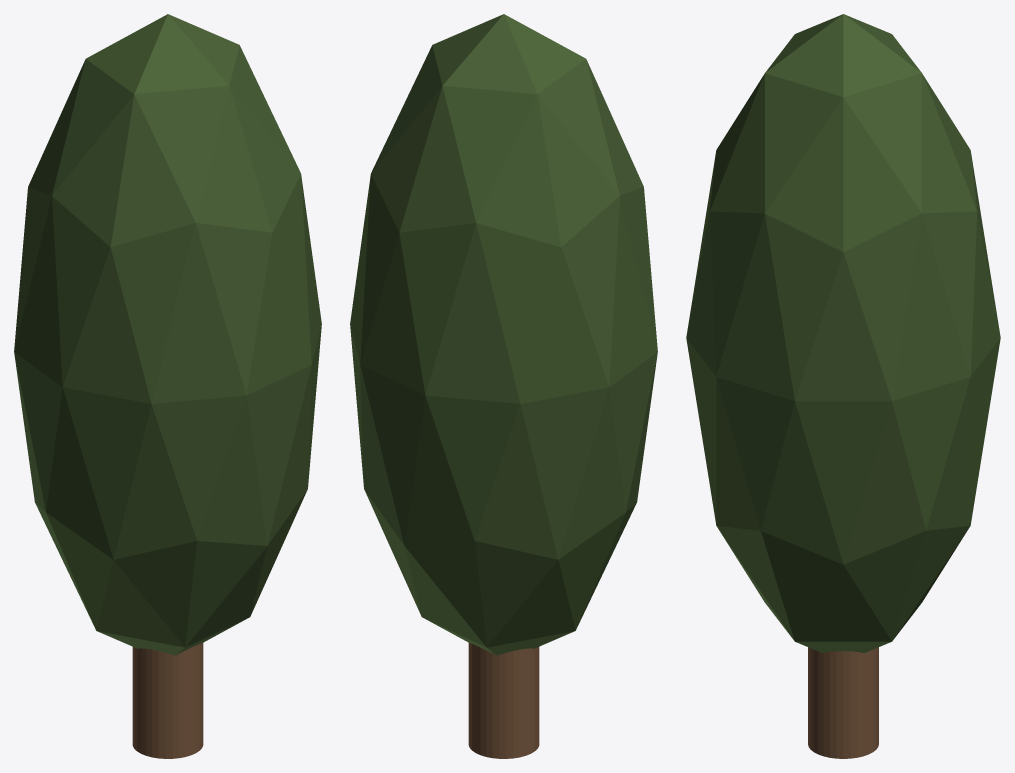
Rendered from tree.obj.
3 renders of one model, left to right at view 1: azimuth 30°, elevation 25°; view 2: azimuth 150°, elevation 25°; view 3: azimuth 270°, elevation 25°, orthographic.
Visible parts, largest first — view 1: Icosphere_Icosphere.002, Cylinder; view 2: Icosphere_Icosphere.002, Cylinder; view 3: Icosphere_Icosphere.002, Cylinder.
Boxes of the visible parts, x1,y1,x2,y2 form: Icosphere_Icosphere.002: (14,14,321,655); Cylinder: (132,642,203,758); Icosphere_Icosphere.002: (350,14,657,655); Cylinder: (468,642,539,758); Icosphere_Icosphere.002: (686,14,1000,652); Cylinder: (808,647,878,758).
Size of the model in its own units: 8.42 by 22.66 by 8.85.
Materials: 2 (2 with a texture image).
